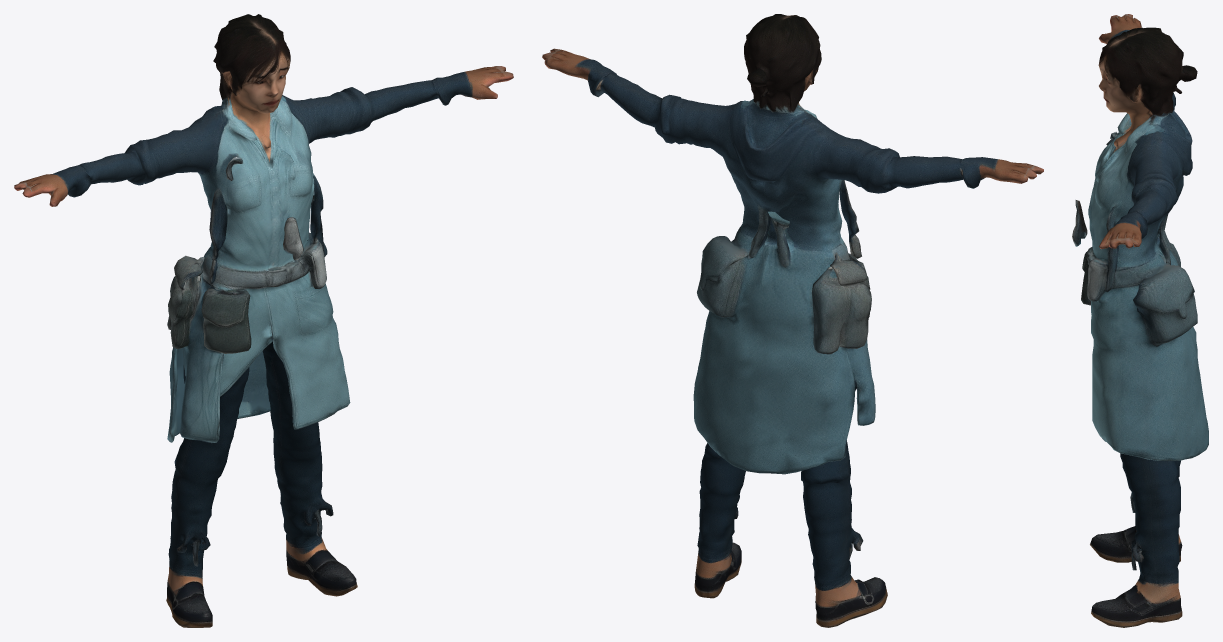
The model's file is NurseNPC.fbx.
3 views of the same model, side by side, from view 1: azimuth 30°, elevation 25°; view 2: azimuth 150°, elevation 25°; view 3: azimuth 270°, elevation 25° (orthographic). The views are drawn at different scales.
Parts seen in each view (by area): view 1: mesh_node; view 2: mesh_node; view 3: mesh_node.
Part boxes in pixels (x1,y1,x2,y2): mesh_node: (14, 14, 513, 627); mesh_node: (542, 14, 1043, 627); mesh_node: (1072, 14, 1208, 627).
Bounding box in the file's own units: 169 × 191 × 42.27.
Materials: 1 (1 with a texture image).
